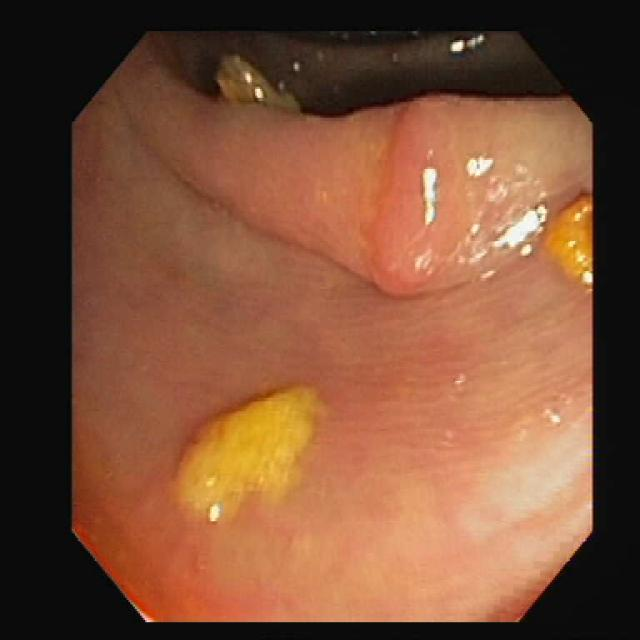tumor: (375, 102, 473, 291)
